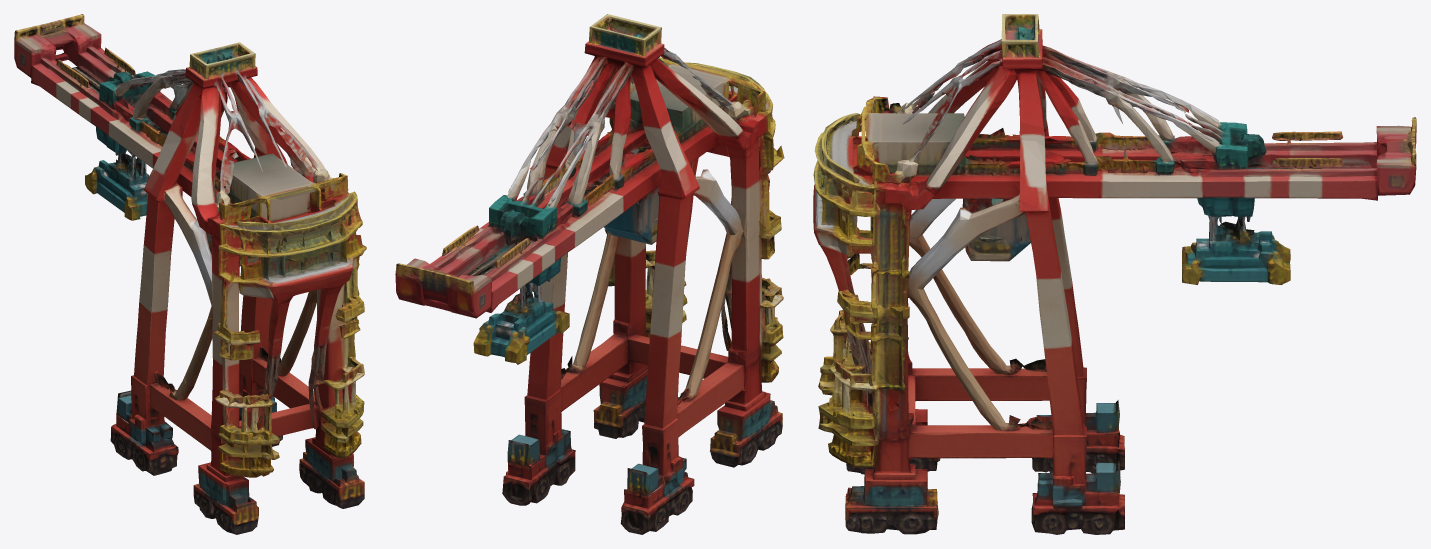
Rendered from hp_gantry_crane.glb.
3 renders of one model, left to right at view 1: azimuth 30°, elevation 25°; view 2: azimuth 150°, elevation 25°; view 3: azimuth 270°, elevation 25°, orthographic. The views are drawn at different scales.
Visible parts, largest first — view 1: world; view 2: world; view 3: world.
Part boxes in pixels (x1=…): world: x1=14, y1=14, x2=366, y2=534; world: x1=395, y1=14, x2=784, y2=534; world: x1=813, y1=14, x2=1416, y2=534.
Size of the model in its own units: 0.3134 by 0.8643 by 1.
Materials: 1 (1 with a texture image).
